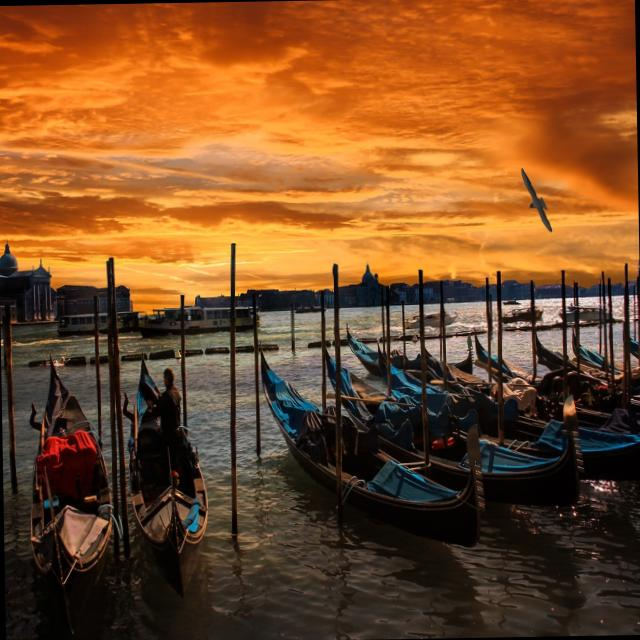boat: (315, 306, 597, 514), (244, 336, 491, 566), (24, 334, 120, 624), (114, 323, 218, 586)
